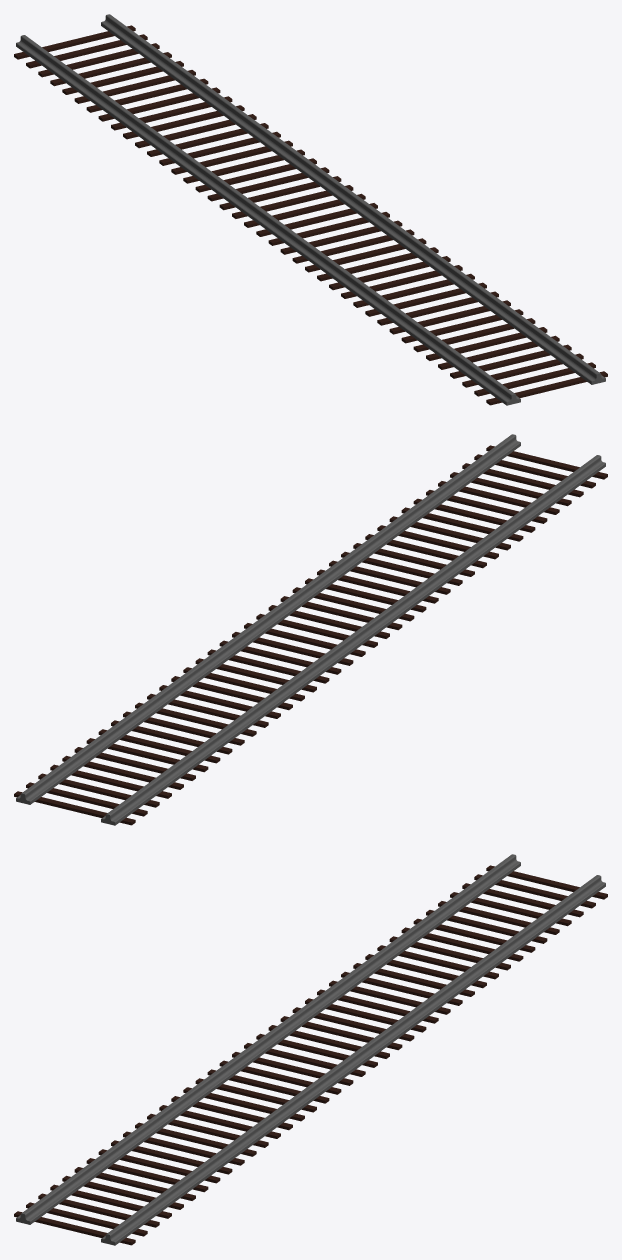
File: rail.fbx
3 views of the same model, one above another, from view 1: azimuth 30°, elevation 25°; view 2: azimuth 150°, elevation 25°; view 3: azimuth 330°, elevation 25° (orthographic).
Visible parts, largest first — view 1: Cube; view 2: Cube; view 3: Cube.
Boxes of the visible parts, <box> form: Cube: <box>14,14,607,405</box>; Cube: <box>14,434,607,825</box>; Cube: <box>14,854,607,1245</box>.
Bounding box in the file's own units: 281 × 28.01 × 2027.
